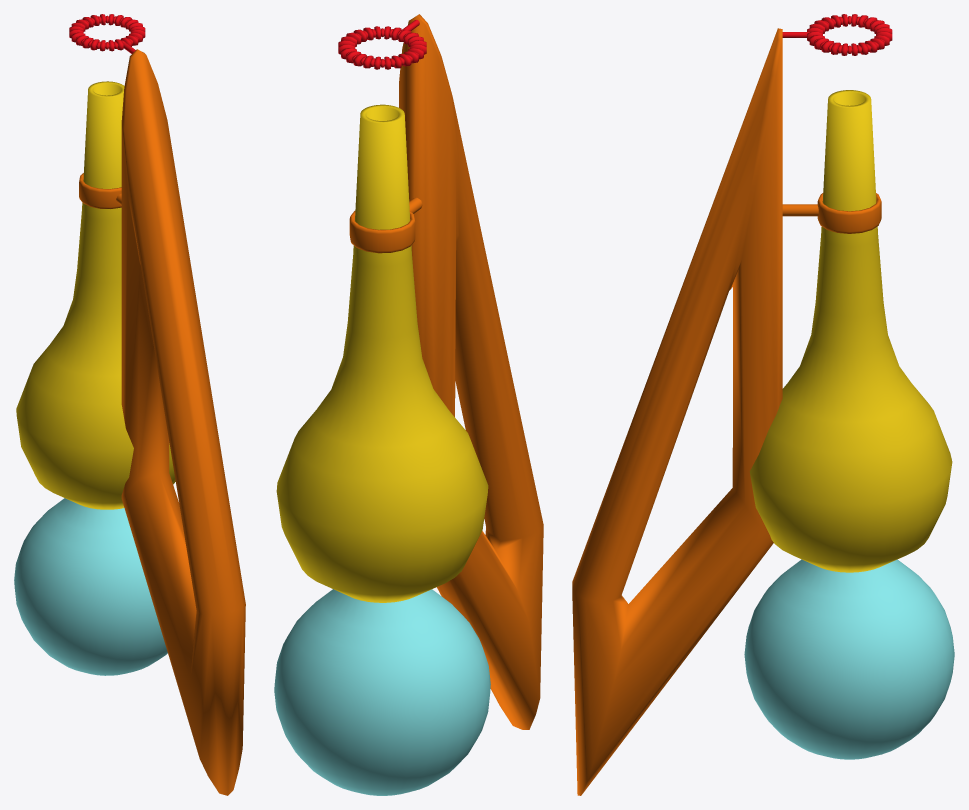
The model's file is gun.glb.
The picture shows the model from 3 angles, left to right: view 1: azimuth 30°, elevation 25°; view 2: azimuth 150°, elevation 25°; view 3: azimuth 270°, elevation 25°; orthographic projection. The views are drawn at different scales.
Visible parts, largest first — view 1: stock, barrel, magazine, visor; view 2: barrel, stock, magazine, visor; view 3: stock, barrel, magazine, visor.
Boxes of the visible parts, <box> form: stock: <box>79,49,245,795</box>; barrel: <box>16,81,175,509</box>; magazine: <box>14,498,167,675</box>; visor: <box>69,14,145,53</box>; barrel: <box>276,104,488,602</box>; stock: <box>349,14,543,729</box>; magazine: <box>274,589,490,795</box>; visor: <box>338,20,426,69</box>; stock: <box>572,28,881,795</box>; barrel: <box>749,90,952,572</box>; magazine: <box>744,559,954,759</box>; visor: <box>782,14,892,55</box>.
Size of the model in its own units: 2 by 8.05 by 3.64.
